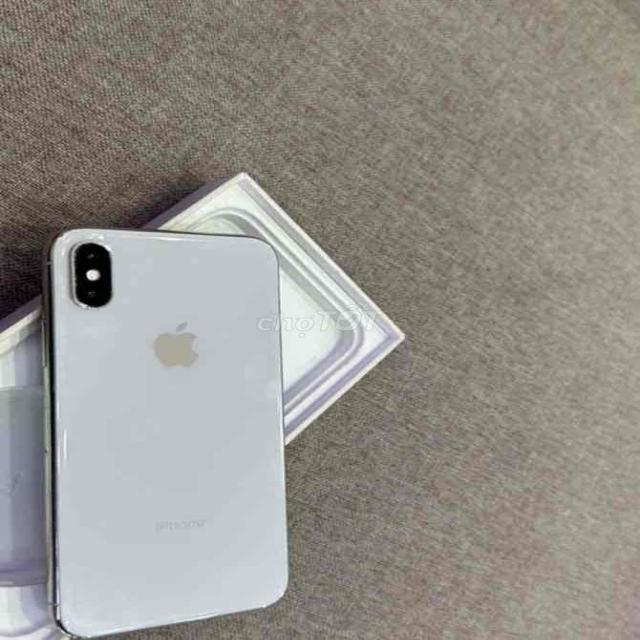gen_x_xs: (37, 225, 309, 640)
